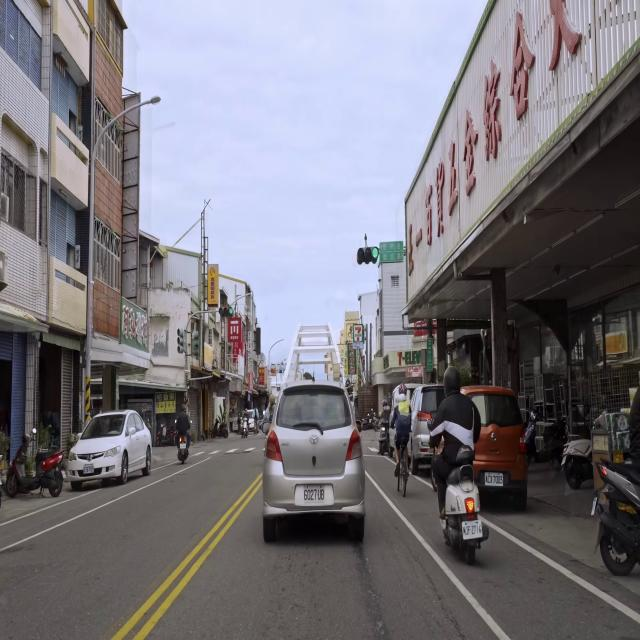green light: (356, 246, 379, 264), (219, 305, 234, 319)
